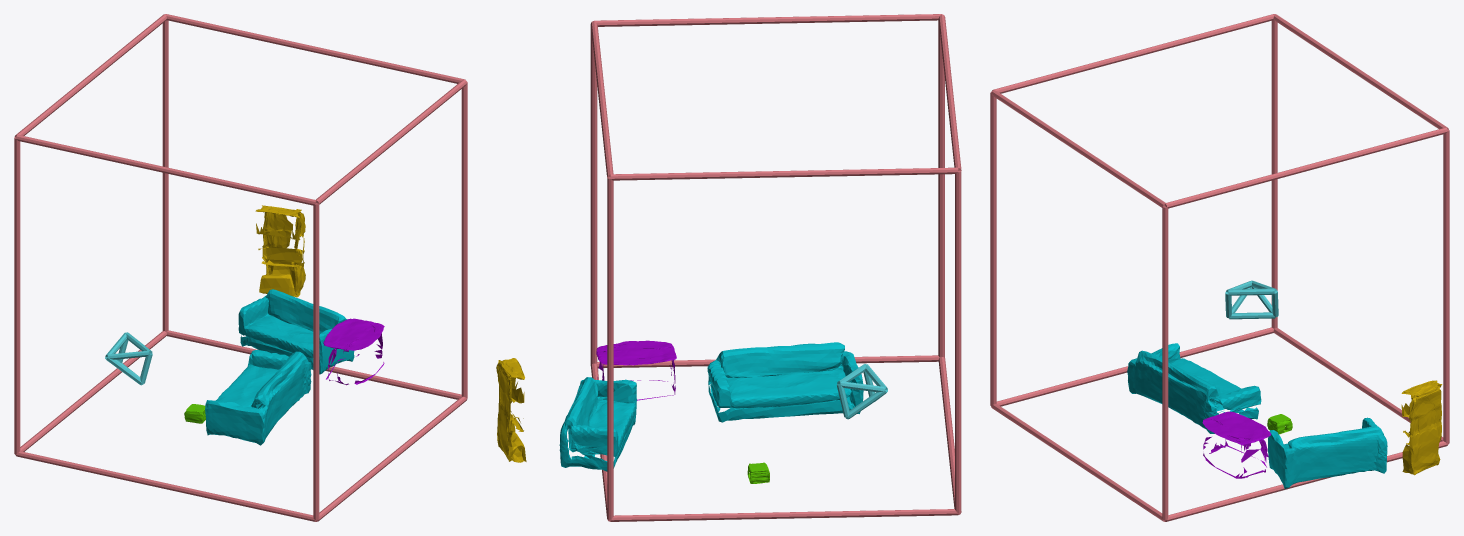
3 views of the same model, side by side, from view 1: azimuth 30°, elevation 25°; view 2: azimuth 150°, elevation 25°; view 3: azimuth 270°, elevation 25° (orthographic). The views are drawn at different scales.
Visible parts, largest first — view 1: world; view 2: world; view 3: world.
Part boxes in pixels (x1,y1,x2,y2): world: (14, 14, 467, 521); world: (496, 14, 961, 521); world: (990, 14, 1449, 521).
Size of the model in its own units: 7.27 by 5.79 by 7.34.
